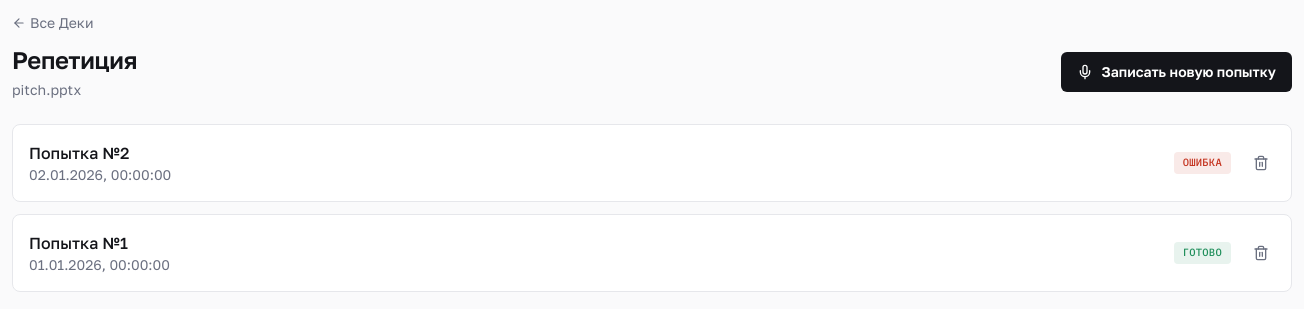
Test: RehearsalAttemptsPage › cancels the delete confirmation without deleting
Expected: the text "Попытка №2" is shown, left=29, top=143, right=129, bottom=163
Click the button named "Удалить попытку" next to "Ошибка": (1261, 163) left=1247, top=149, right=1275, bottom=177
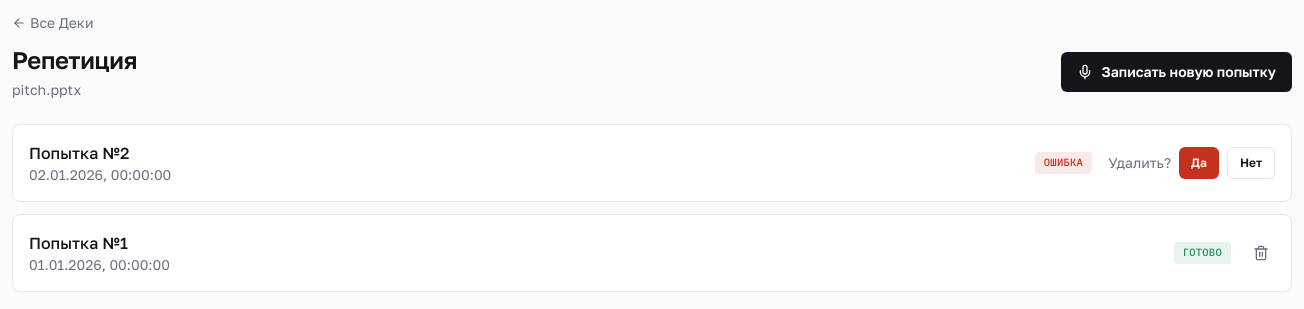
Click the button "Нет": (1251, 163) left=1227, top=147, right=1275, bottom=179
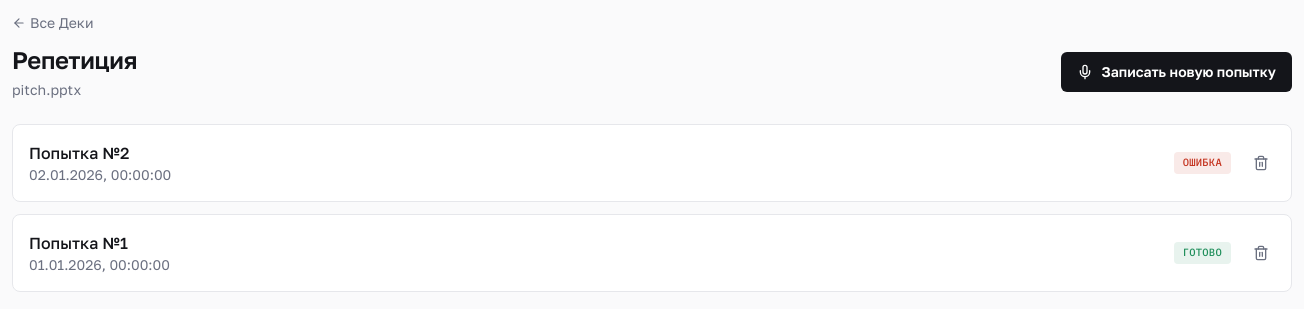
Now the text "Удалить?" is gone
Now the number of buttons named "Удалить попытку" is 2, box left=1247, top=149, right=1275, bottom=177; left=1247, top=239, right=1275, bottom=267
